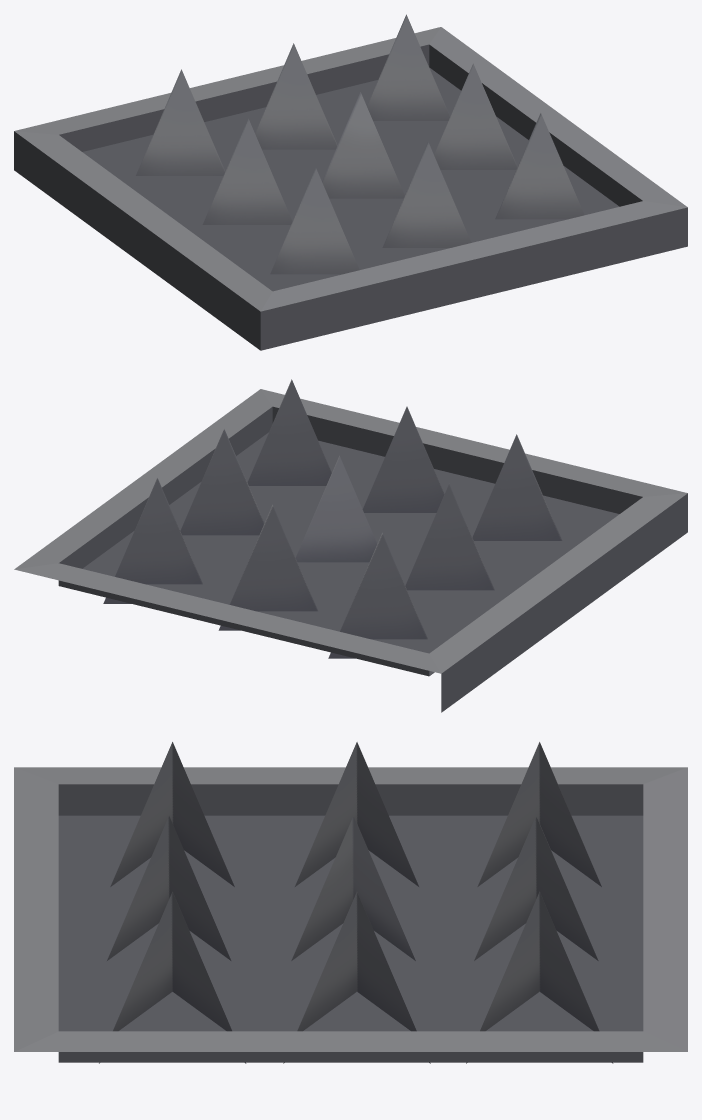
Rendered from Spike_Trap.fbx.
3 renders of one model, top to bottom at view 1: azimuth 30°, elevation 25°; view 2: azimuth 150°, elevation 25°; view 3: azimuth 270°, elevation 25°, orthographic. The views are drawn at different scales.
Visible parts, largest first — view 1: pCone21; view 2: pCone21; view 3: pCone21.
Boxes of the visible parts, bbox=[...] form: pCone21: bbox=[14, 14, 687, 350]; pCone21: bbox=[14, 379, 687, 712]; pCone21: bbox=[14, 742, 687, 1063].
Bounding box in the file's own units: 3 × 0.76 × 3.
